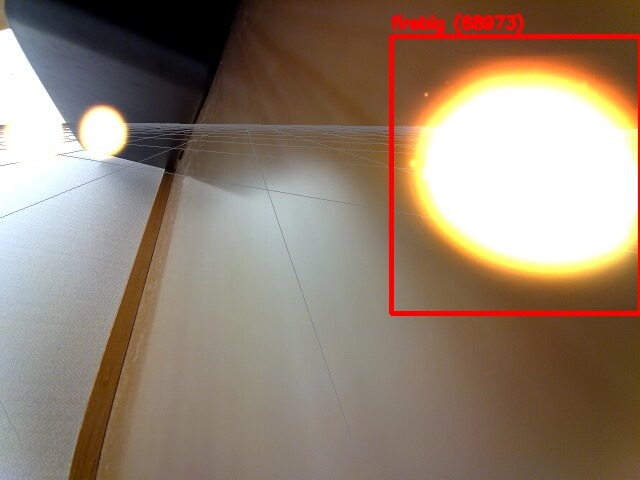firebig: (391, 36, 640, 313)
